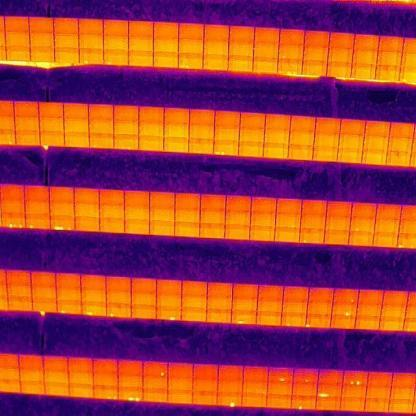Diode: (317, 382, 342, 398), (50, 216, 76, 230), (230, 311, 256, 325), (82, 303, 106, 317)
Hotspot: (118, 386, 144, 402), (278, 44, 304, 60), (299, 228, 324, 244), (79, 48, 104, 64), (88, 134, 114, 149), (188, 139, 214, 154), (332, 289, 358, 304), (142, 361, 168, 376), (278, 59, 304, 74), (214, 140, 238, 156), (114, 135, 139, 150), (1, 213, 26, 228), (25, 214, 50, 229), (276, 214, 302, 228), (156, 306, 182, 320), (306, 314, 332, 328), (268, 368, 294, 382), (342, 372, 368, 386), (103, 50, 129, 64), (178, 54, 204, 68), (350, 218, 375, 232), (106, 304, 132, 317), (58, 300, 82, 314), (294, 368, 318, 382), (218, 392, 242, 406), (292, 396, 316, 410), (94, 386, 119, 399), (332, 304, 358, 316), (281, 314, 306, 326)
Normal: (290, 115, 316, 133), (282, 286, 310, 302), (124, 218, 150, 235), (43, 355, 69, 372), (264, 142, 288, 160), (30, 16, 54, 34), (315, 117, 340, 134), (264, 129, 289, 146), (5, 31, 30, 48), (229, 55, 254, 72), (138, 108, 164, 124), (164, 108, 190, 124), (190, 110, 216, 126), (340, 119, 366, 135), (364, 121, 390, 137), (138, 122, 164, 138), (314, 132, 340, 148), (338, 134, 364, 150), (363, 134, 389, 150), (288, 145, 314, 161), (24, 186, 50, 202), (74, 186, 100, 202), (150, 192, 176, 208), (276, 198, 302, 214), (78, 19, 104, 35), (30, 32, 56, 48), (128, 36, 154, 52), (228, 41, 254, 57), (30, 47, 56, 63), (290, 130, 314, 147), (388, 137, 412, 154), (314, 146, 338, 163), (204, 40, 228, 57), (204, 53, 228, 70), (308, 288, 335, 303), (38, 103, 63, 119), (63, 104, 88, 120), (215, 112, 240, 128), (265, 114, 290, 130), (114, 121, 139, 137), (40, 130, 65, 146), (139, 136, 164, 152), (238, 142, 263, 158), (50, 187, 75, 203), (150, 220, 175, 236), (200, 222, 225, 238), (5, 16, 30, 32), (233, 284, 258, 300), (155, 22, 180, 38), (382, 290, 407, 306), (255, 28, 280, 44), (93, 358, 118, 374), (168, 362, 193, 378), (305, 31, 330, 47), (168, 376, 193, 392), (330, 32, 355, 48), (243, 392, 268, 408), (104, 35, 129, 51), (254, 43, 279, 59), (253, 58, 278, 74), (302, 60, 327, 76), (351, 64, 376, 80), (300, 200, 328, 214), (338, 398, 366, 412), (240, 113, 266, 128), (14, 116, 40, 131), (64, 133, 90, 148), (163, 138, 189, 153), (74, 202, 100, 217), (376, 204, 402, 219), (124, 205, 150, 220), (200, 208, 226, 223), (75, 216, 101, 231), (374, 218, 400, 233), (324, 230, 350, 245), (104, 21, 130, 36), (56, 273, 82, 288), (128, 21, 154, 36), (178, 25, 204, 40), (379, 317, 405, 332), (229, 26, 255, 41), (54, 33, 80, 48), (354, 35, 380, 50), (54, 48, 80, 63), (328, 48, 354, 63), (376, 66, 402, 81), (40, 117, 64, 133), (386, 150, 410, 166), (100, 188, 124, 204), (352, 202, 376, 218), (226, 208, 250, 224), (226, 224, 250, 240), (54, 18, 78, 34), (69, 356, 93, 372), (280, 30, 304, 46), (380, 36, 404, 52), (378, 51, 402, 67), (154, 52, 178, 68), (13, 102, 40, 116), (358, 290, 385, 304), (114, 107, 139, 122), (63, 118, 88, 133), (190, 125, 215, 140), (214, 126, 239, 141), (239, 128, 264, 143), (338, 149, 363, 164), (0, 185, 25, 200), (200, 194, 225, 209), (100, 203, 125, 218), (175, 223, 200, 238), (204, 25, 229, 40), (118, 359, 143, 374), (93, 372, 118, 387), (390, 386, 415, 401), (364, 398, 389, 413), (164, 124, 190, 138), (15, 131, 41, 145), (362, 150, 388, 164), (124, 191, 150, 205), (25, 202, 51, 216), (250, 212, 276, 226), (325, 216, 351, 230), (250, 226, 276, 240), (274, 228, 300, 242), (156, 281, 182, 295), (181, 282, 207, 296), (207, 284, 233, 298), (258, 286, 284, 300), (306, 302, 334, 315), (380, 305, 406, 319), (206, 310, 232, 324), (256, 312, 282, 326), (367, 372, 393, 386), (192, 378, 218, 392), (142, 388, 168, 402), (266, 394, 292, 408), (316, 396, 342, 410), (78, 35, 104, 49), (352, 50, 378, 64), (128, 52, 154, 66), (390, 123, 414, 138), (176, 208, 200, 223), (373, 232, 397, 247), (6, 271, 30, 286), (132, 292, 156, 307), (244, 367, 268, 382), (392, 372, 416, 387), (154, 37, 178, 52), (328, 63, 352, 78), (89, 106, 114, 120), (175, 194, 200, 208), (226, 196, 251, 210), (251, 198, 276, 212), (1, 200, 26, 214), (327, 202, 352, 216), (301, 214, 326, 228), (100, 218, 125, 232), (349, 232, 374, 246), (31, 272, 56, 286), (81, 276, 106, 290), (106, 278, 131, 292), (219, 367, 244, 381), (118, 374, 143, 388), (143, 376, 168, 390), (366, 385, 391, 399), (88, 121, 114, 134), (106, 291, 132, 304), (156, 294, 182, 307), (282, 302, 308, 315), (355, 317, 381, 330), (132, 280, 156, 294), (182, 296, 206, 310), (256, 302, 284, 314), (194, 364, 218, 378), (19, 368, 43, 382), (70, 371, 94, 385), (22, 381, 46, 395), (194, 392, 218, 406), (179, 40, 203, 54), (6, 46, 30, 60), (304, 46, 328, 60), (50, 202, 75, 215), (150, 208, 175, 221), (330, 316, 355, 329), (219, 381, 244, 394), (268, 382, 293, 395), (341, 385, 366, 398), (43, 372, 70, 384), (7, 286, 31, 299), (32, 287, 56, 300), (56, 288, 82, 300), (356, 304, 382, 316), (19, 355, 43, 368), (318, 370, 344, 382), (293, 383, 317, 396), (70, 385, 94, 398), (388, 400, 414, 412), (82, 291, 107, 303), (207, 298, 232, 310), (232, 299, 257, 311), (33, 300, 58, 312), (132, 306, 157, 318), (243, 382, 268, 394), (168, 391, 193, 403), (8, 299, 32, 311), (182, 309, 206, 321), (45, 385, 70, 396), (0, 354, 19, 368), (0, 367, 20, 380), (0, 381, 21, 393)
